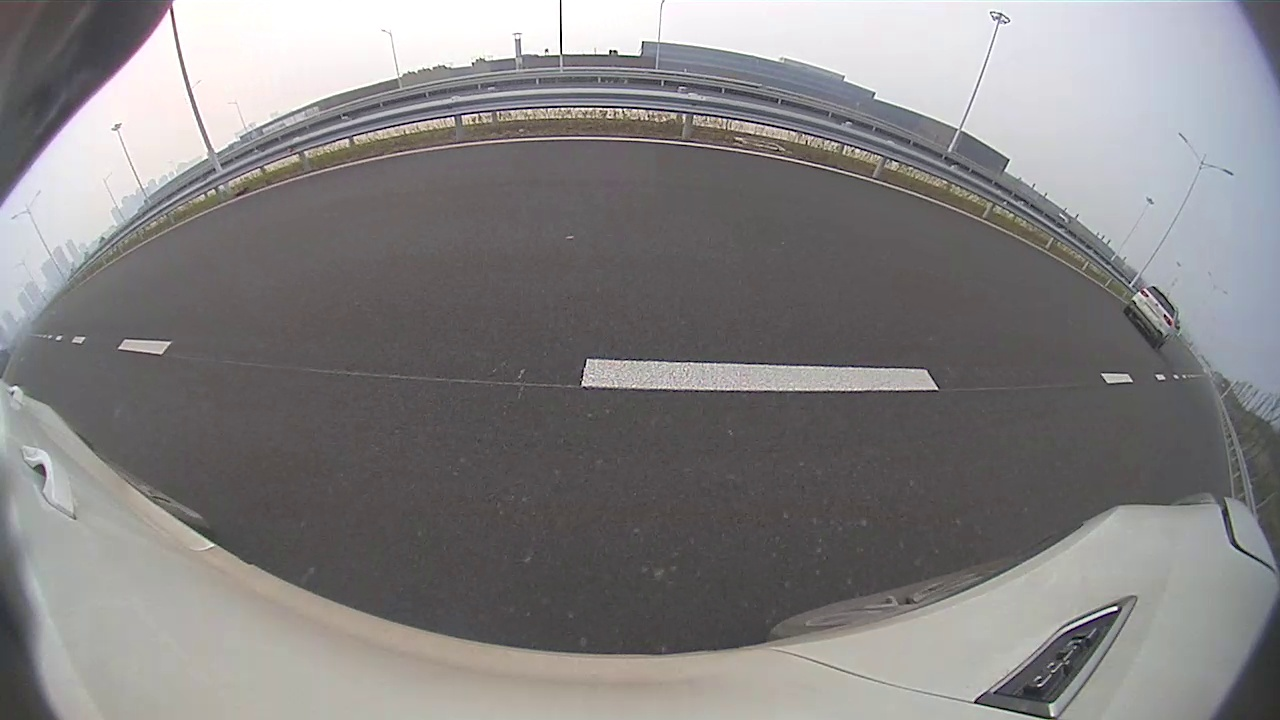car: (671, 152, 716, 188)
